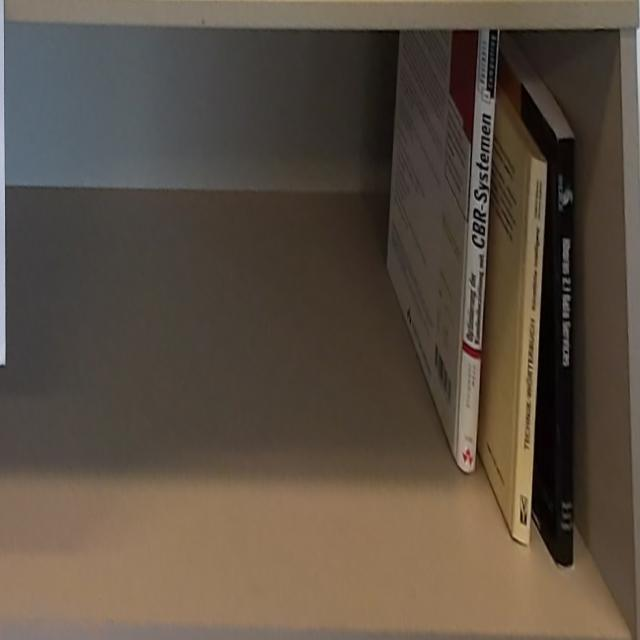Book Spine: (455, 29, 500, 474), (513, 153, 548, 546), (557, 136, 575, 570)
